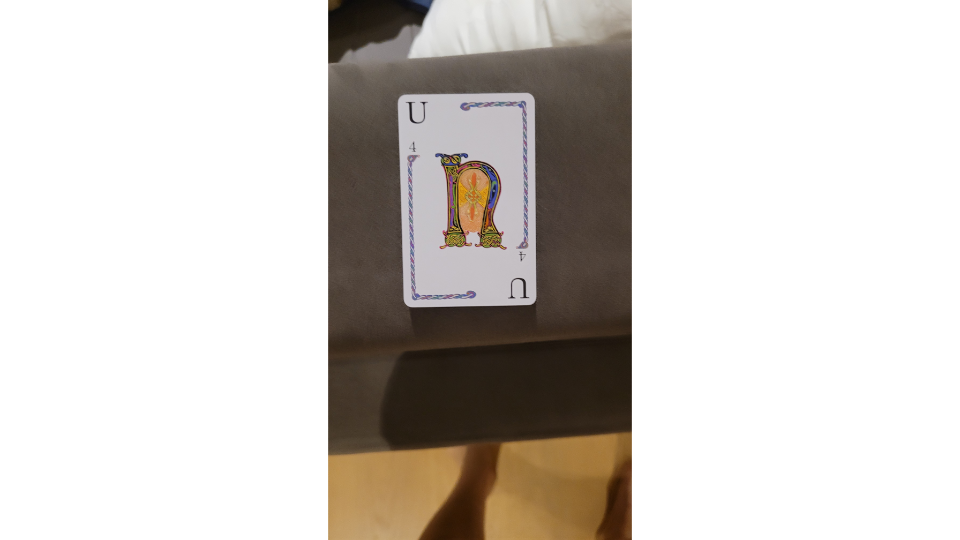U: (393, 90, 542, 309)
